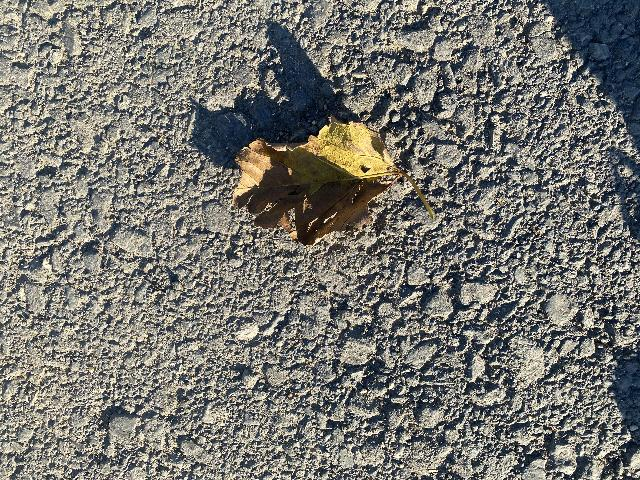Organik: (216, 97, 459, 252)
